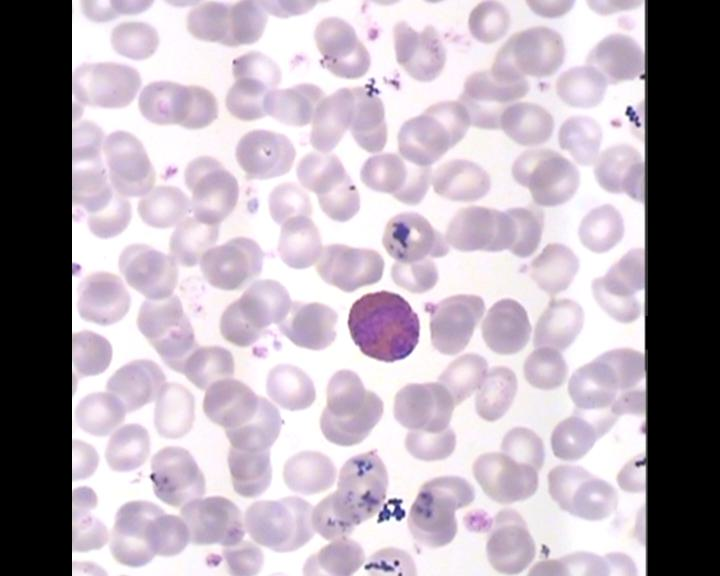eosi: (344, 287, 423, 364)
